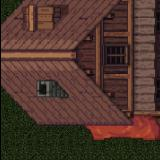Obstacle: (34, 0, 160, 152)
